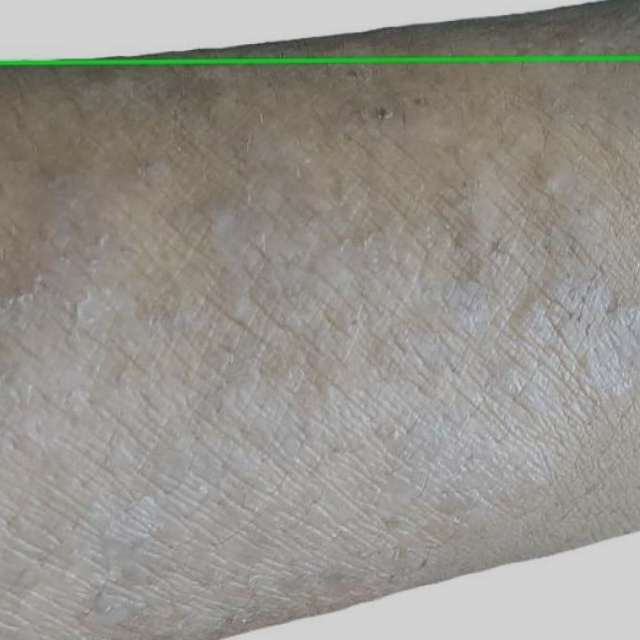Tinea Corporis: (0, 0, 639, 63)
